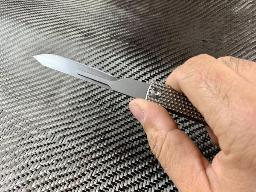scalpel: (32, 52, 212, 128)
